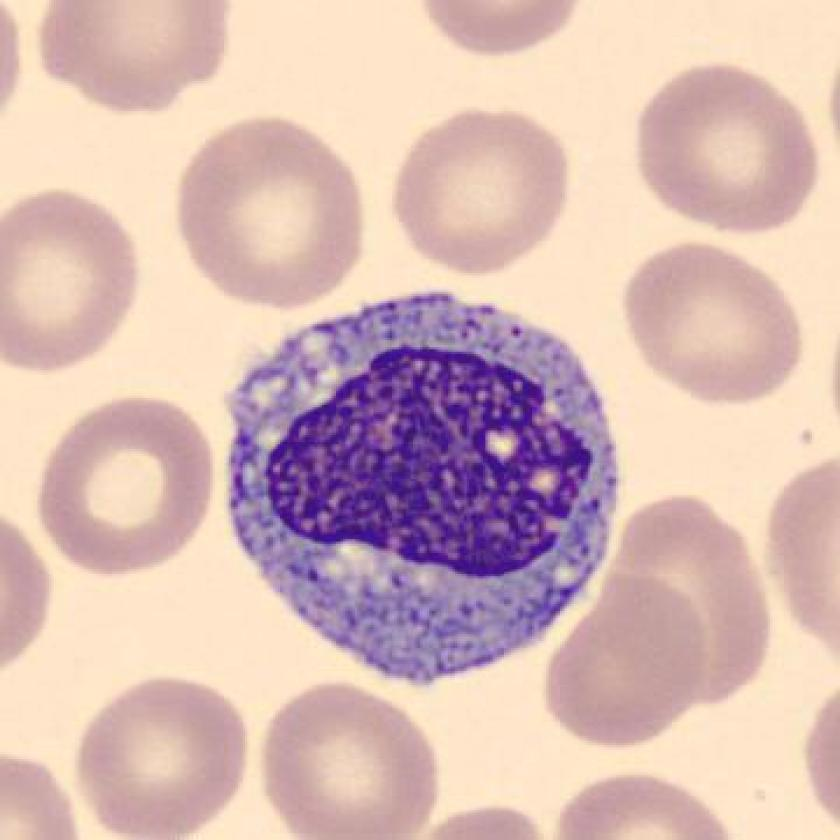monocyte: (209, 272, 652, 704)
